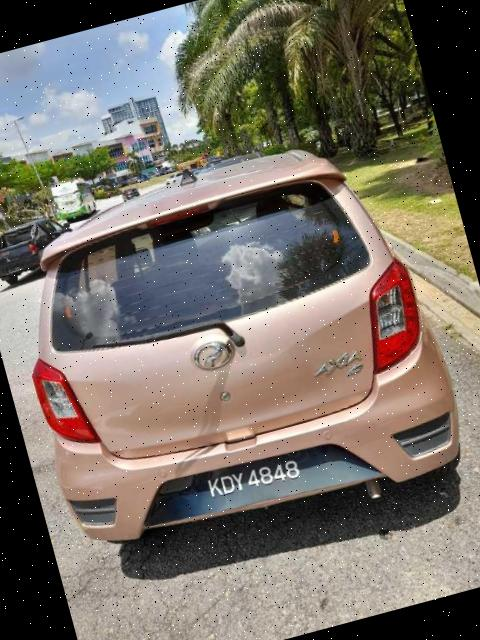License_Plate: (172, 445, 337, 521)
car: (1, 117, 477, 578)
